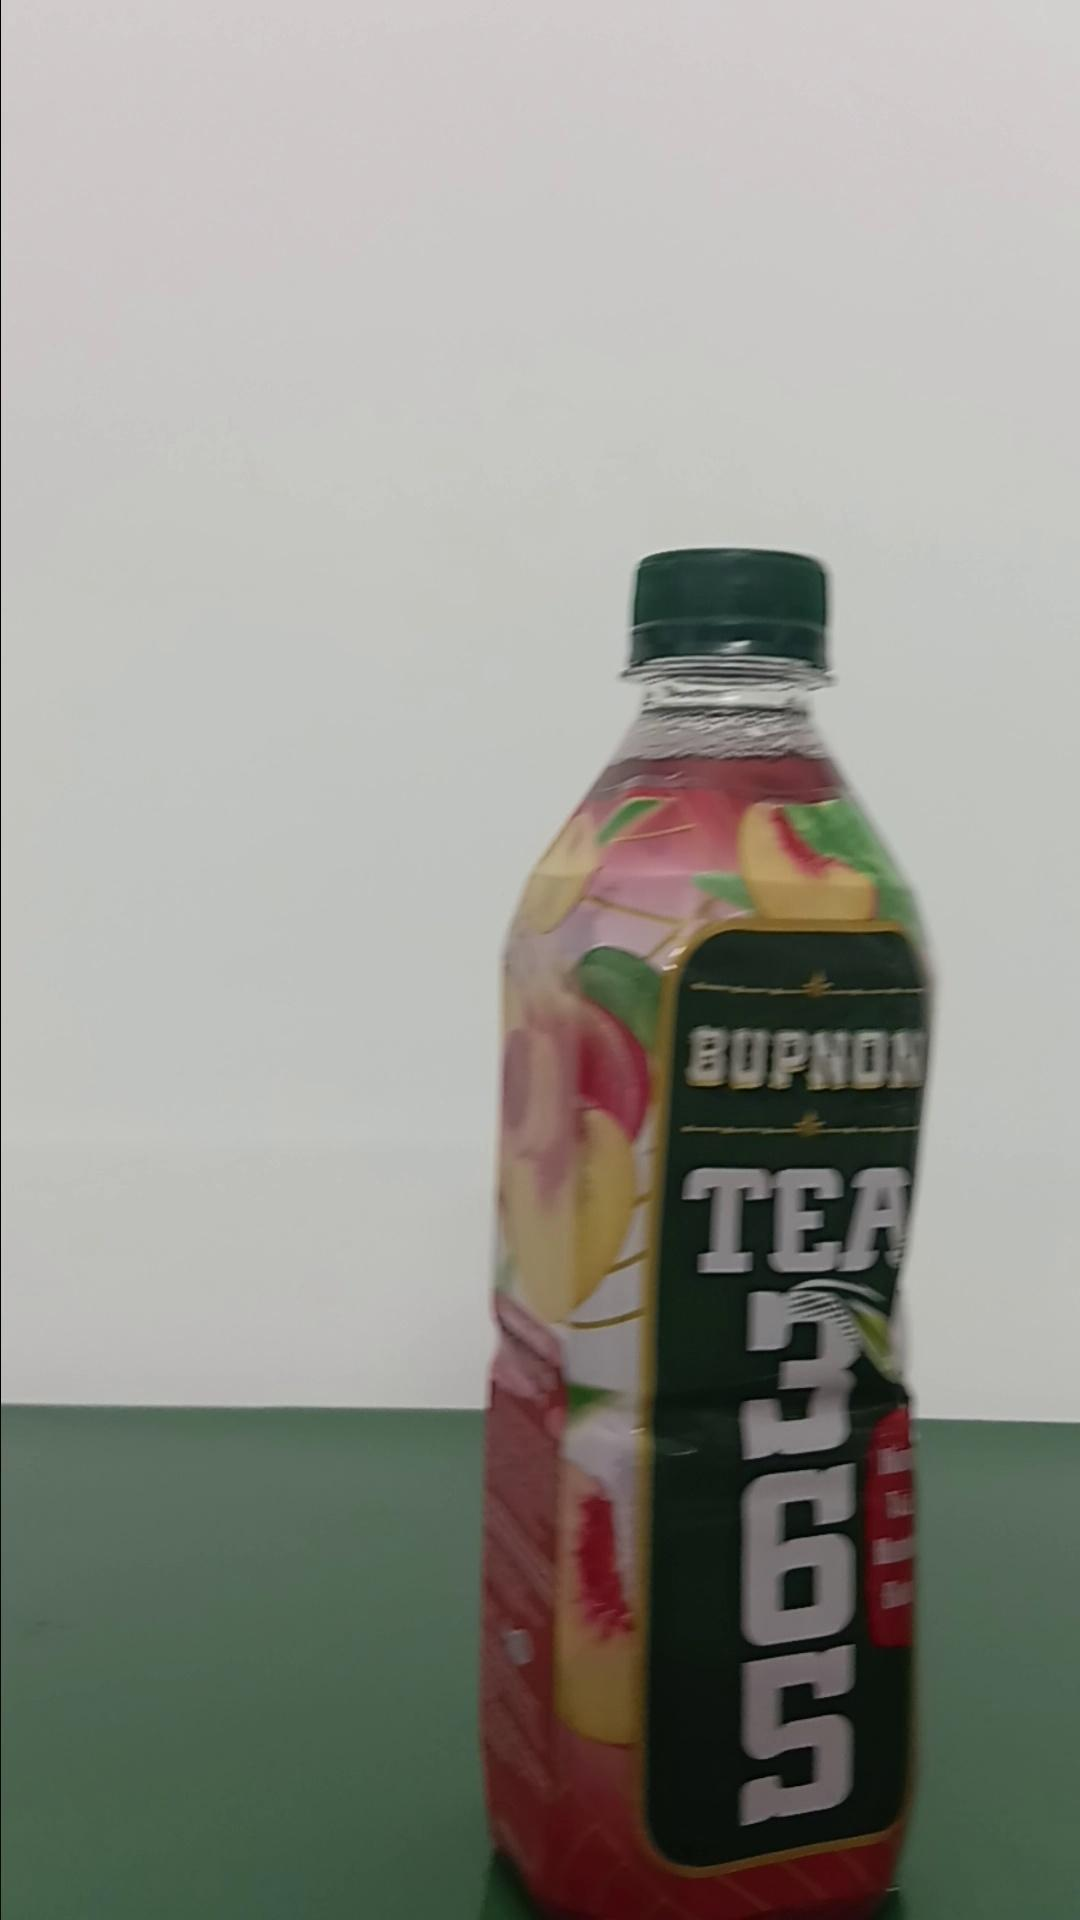loi meo sp: (473, 542, 938, 1915)
